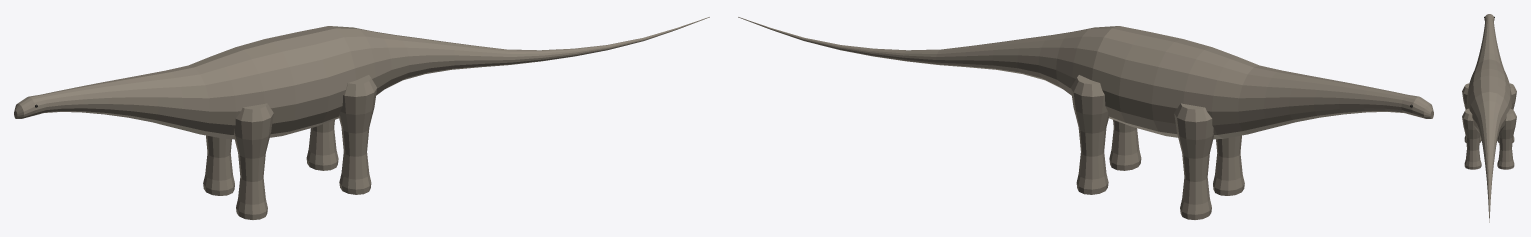
The picture shows the model from 3 angles, left to right: view 1: azimuth 30°, elevation 25°; view 2: azimuth 150°, elevation 25°; view 3: azimuth 270°, elevation 25°; orthographic projection. The views are drawn at different scales.
Parts seen in each view (by area): view 1: Apatosaurus_louisae_original_living_art; view 2: Apatosaurus_louisae_original_living_art; view 3: Apatosaurus_louisae_original_living_art.
Part boxes in pixels (x1,y1,x2,y2): Apatosaurus_louisae_original_living_art: (14, 17, 709, 219); Apatosaurus_louisae_original_living_art: (738, 17, 1433, 219); Apatosaurus_louisae_original_living_art: (1462, 14, 1516, 222).
Size of the model in its own units: 21 by 4.45 by 2.88.
